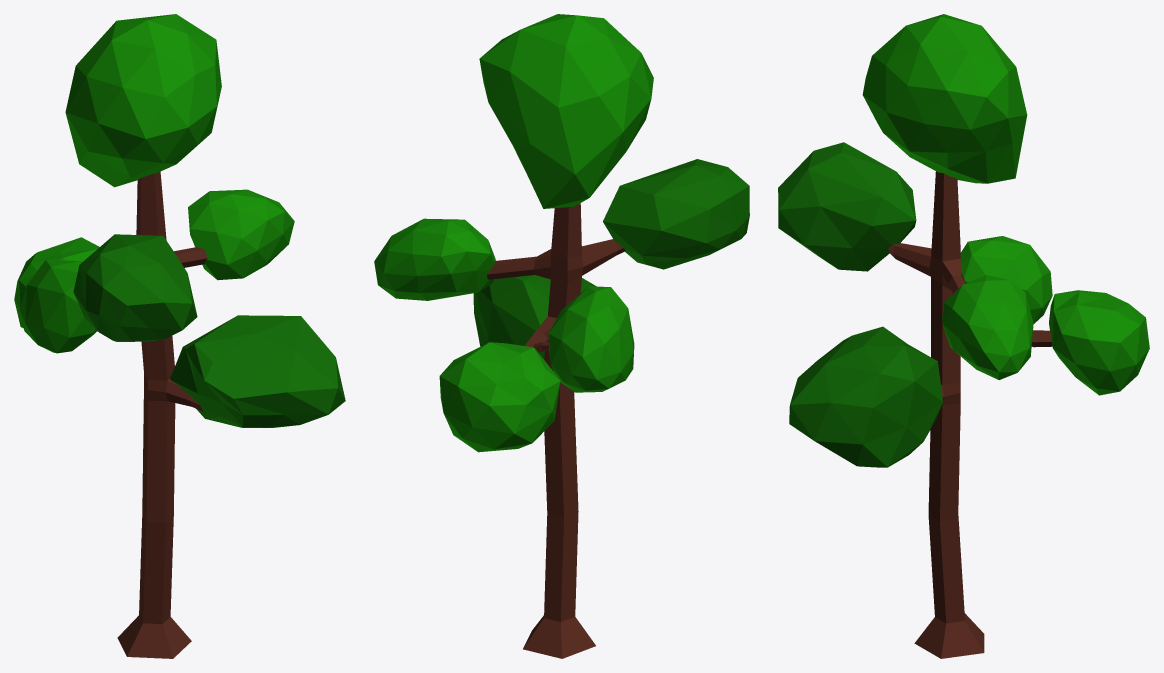
Rendered from tree8.fbx.
3 views of the same model, side by side, from view 1: azimuth 30°, elevation 25°; view 2: azimuth 150°, elevation 25°; view 3: azimuth 270°, elevation 25° (orthographic).
Parts seen in each view (by area): view 1: Tree2.003; view 2: Tree2.003; view 3: Tree2.003.
Boxes of the visible parts, x1,y1,x2,y2 form: Tree2.003: (14,14,345,658); Tree2.003: (374,14,749,658); Tree2.003: (778,14,1149,658).
Bounding box in the file's own units: 8.13 × 17.3 × 9.39.
